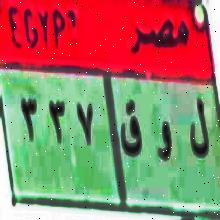3: (18, 94, 43, 152), (48, 90, 69, 148)
7: (76, 96, 98, 152)
laam: (188, 93, 210, 165)
qaaf: (120, 96, 144, 168)
waw: (157, 119, 173, 173)
